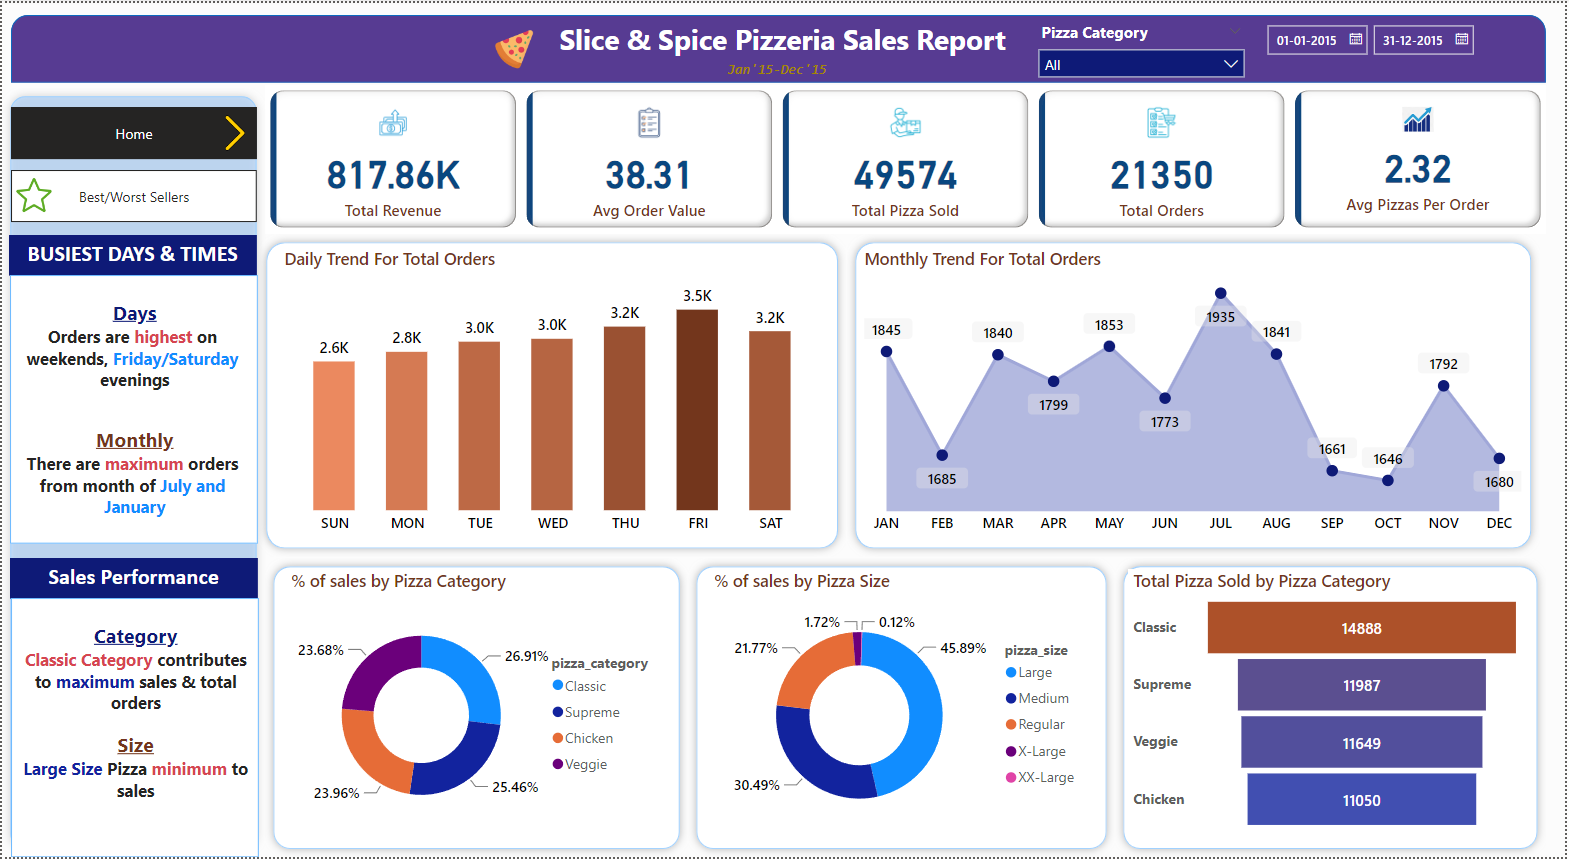

Layout of this report page (visuals, bound fields, positions):
{"tool":"powerbi","page":{"name":"Home","canvas":[1500,820],"ordinal":0},"visuals":[{"type":"cardVisual","fields":{"Data":["firstdb pizza_sales.Total Revenue","firstdb pizza_sales.Avg Order Value","firstdb pizza_sales.Total Pizza Sold","firstdb pizza_sales.Total Orders","firstdb pizza_sales.Avg Pizzas Per Order"]},"box":[252.5,78.8,1230,142.5],"z":0},{"type":"shape","box":[8.8,11.2,1473.8,65],"z":1000},{"type":"textbox","box":[492.5,11.2,513.8,52.5],"z":2000},{"type":"textbox","box":[691.2,48.8,117.5,30],"z":3000},{"type":"image","box":[465,20,53.8,47.5],"z":4000},{"type":"shape","box":[246.3,222.2,565,310],"z":5000},{"type":"columnChart","title":"Daily Trend For Total Orders","fields":{"Category":["firstdb pizza_sales.Order Day"],"Y":["firstdb pizza_sales.Total Orders"]},"box":[266.3,234.7,526.2,283.8],"z":6000},{"type":"shape","box":[811.3,222.2,665,310],"z":7000},{"type":"areaChart","title":"Monthly Trend For Total Orders","fields":{"Category":["firstdb pizza_sales.Order Month"],"Y":["firstdb pizza_sales.Total Orders"]},"box":[822.5,234.7,641.2,283.8],"z":8000},{"type":"shape","box":[252.5,532.5,406.2,287.5],"z":9000},{"type":"shape","box":[658.8,532.5,410,287.5],"z":10000},{"type":"shape","box":[1068.8,532.5,413.8,287.5],"z":11000},{"type":"donutChart","title":"% of sales by Pizza Category","fields":{"Category":["firstdb pizza_sales.pizza_category"],"Y":["firstdb pizza_sales.Total Revenue"]},"box":[272.5,543.8,368.8,260],"z":12000},{"type":"donutChart","title":"% of sales by Pizza Size","fields":{"Category":["firstdb pizza_sales.pizza_size"],"Y":["firstdb pizza_sales.Total Revenue"]},"box":[678.8,543.8,368.8,260],"z":13000},{"type":"shape","box":[0,81.2,252.5,738.8],"z":14000},{"type":"funnel","title":"Total Pizza Sold by Pizza Category","fields":{"Category":["firstdb pizza_sales.pizza_category"],"Y":["firstdb pizza_sales.Total Pizza Sold"]},"box":[1081.2,543.8,382.5,256.2],"z":15000},{"type":"textbox","box":[6.2,222.5,237.5,38.8],"z":16000},{"type":"textbox","box":[7.5,261.2,237.5,257.5],"z":17000},{"type":"textbox","box":[7.5,532.5,237.5,38.8],"z":18000},{"type":"textbox","box":[8.8,571.2,237.5,248.8],"z":19000},{"type":"slicer","title":"Pizza","fields":{"Values":["firstdb pizza_sales.pizza_category"]},"box":[985,12.5,217.5,61.2],"z":20000},{"type":"slicer","title":"Pizza","fields":{"Values":["firstdb pizza_sales.order_date"]},"box":[1202.5,11.2,217.5,70],"z":21000},{"type":"pageNavigator","box":[8.8,100,236.2,50],"z":22000},{"type":"image","box":[201.2,100,43.8,50],"z":23000},{"type":"actionButton","title":"Go To Best/Worst Sellers","box":[9.2,89.1,232.6,60.5],"z":24000},{"type":"actionButton","title":"Go To Home","box":[9.2,150.6,232.6,42],"z":25000}]}

Visuals, with their boxes in screenshot pixels (x1, y1, x2, y2), scaled from the page's 1500x820 canvas onto the 1569x859 screenshot:
cardVisual - firstdb pizza_sales.Total Revenue x firstdb pizza_sales.Avg Order Value: box=[264, 83, 1551, 232]
shape: box=[9, 12, 1551, 80]
textbox: box=[515, 12, 1053, 67]
textbox: box=[723, 51, 846, 83]
image: box=[486, 21, 543, 71]
shape: box=[258, 233, 849, 558]
"Daily Trend For Total Orders" columnChart: box=[279, 246, 829, 543]
shape: box=[849, 233, 1544, 558]
"Monthly Trend For Total Orders" areaChart: box=[860, 246, 1531, 543]
shape: box=[264, 558, 689, 858]
shape: box=[689, 558, 1118, 858]
shape: box=[1118, 558, 1551, 858]
"% of sales by Pizza Category" donutChart: box=[285, 570, 671, 842]
"% of sales by Pizza Size" donutChart: box=[710, 570, 1096, 842]
shape: box=[0, 85, 264, 858]
"Total Pizza Sold by Pizza Category" funnel: box=[1131, 570, 1531, 838]
textbox: box=[6, 233, 255, 274]
textbox: box=[8, 274, 256, 543]
textbox: box=[8, 558, 256, 598]
textbox: box=[9, 598, 258, 858]
"Pizza" slicer: box=[1030, 13, 1258, 77]
"Pizza" slicer: box=[1258, 12, 1485, 85]
pageNavigator: box=[9, 105, 256, 157]
image: box=[210, 105, 256, 157]
"Go To Best/Worst Sellers" actionButton: box=[10, 93, 253, 157]
"Go To Home" actionButton: box=[10, 158, 253, 202]
